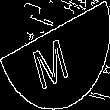M_N: (33, 23, 77, 87)
